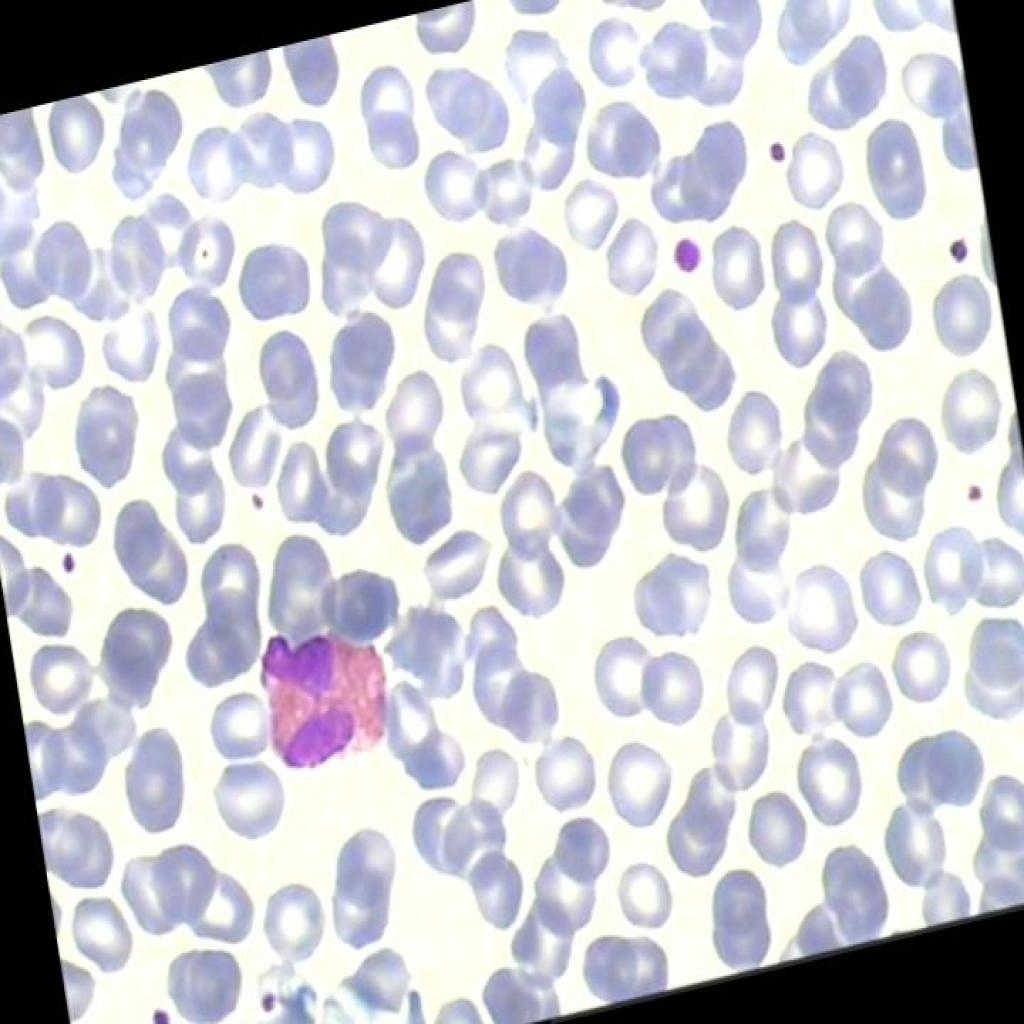Eosinofil: (240, 594, 402, 798)
Platelet: (240, 469, 286, 546), (660, 226, 707, 295), (940, 222, 987, 284), (52, 528, 92, 588), (761, 119, 796, 185), (957, 466, 997, 521), (246, 971, 284, 1022), (138, 992, 175, 1022)
